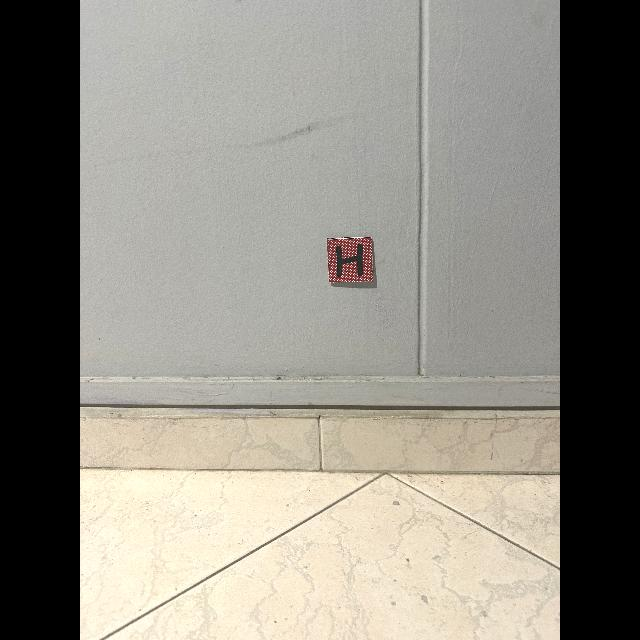H: (336, 244, 363, 277)
